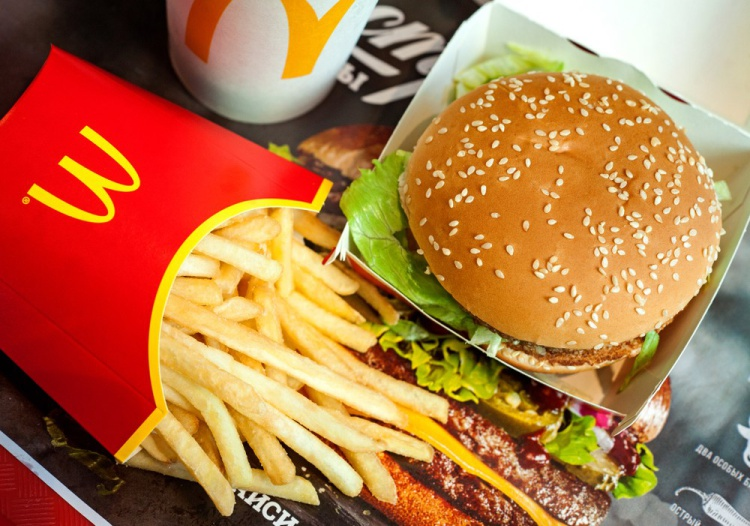mcdonalds: (21, 118, 146, 245)
